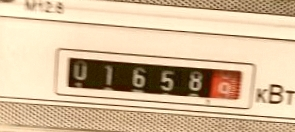0: (70, 58, 88, 80)
1: (99, 61, 115, 86)
5: (157, 67, 175, 92)
6: (128, 64, 148, 89)
8: (185, 69, 204, 92)
9: (214, 78, 231, 100)
screen: (49, 43, 258, 114)
